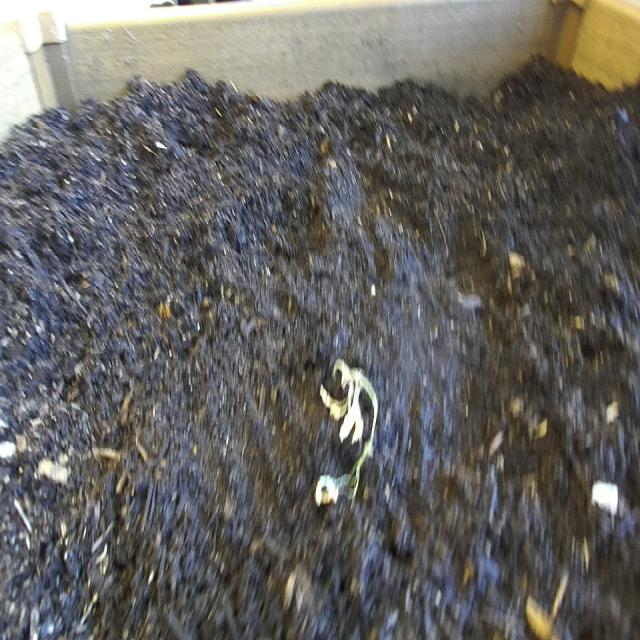Unhealthy: (312, 354, 384, 518)
